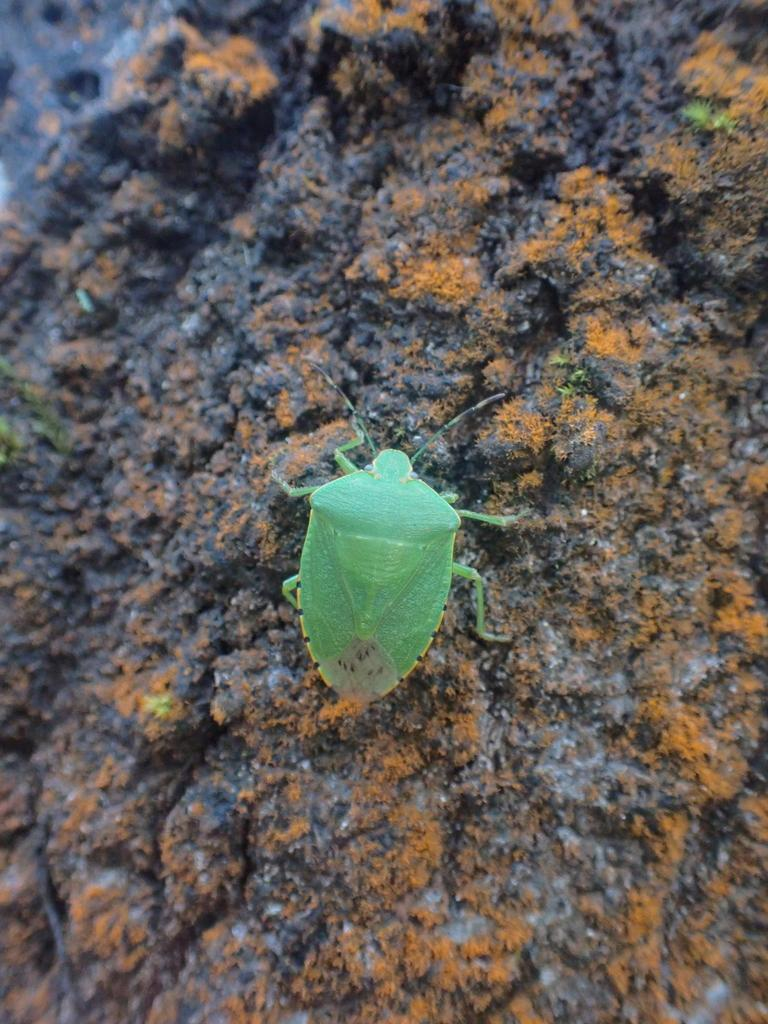stink_bugs: (203, 316, 586, 771)
